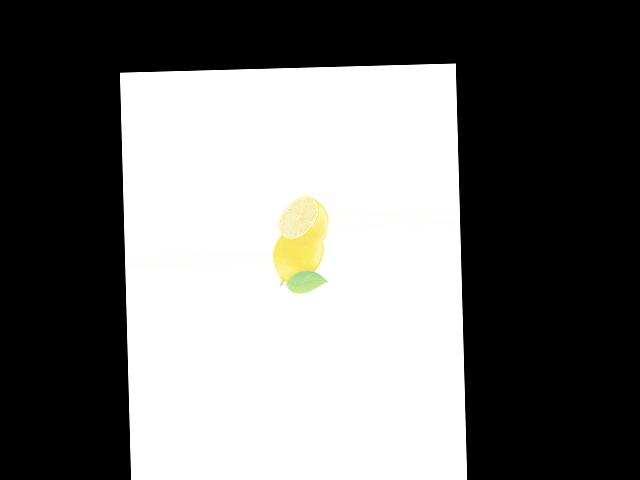lemon: (271, 233, 326, 287)
